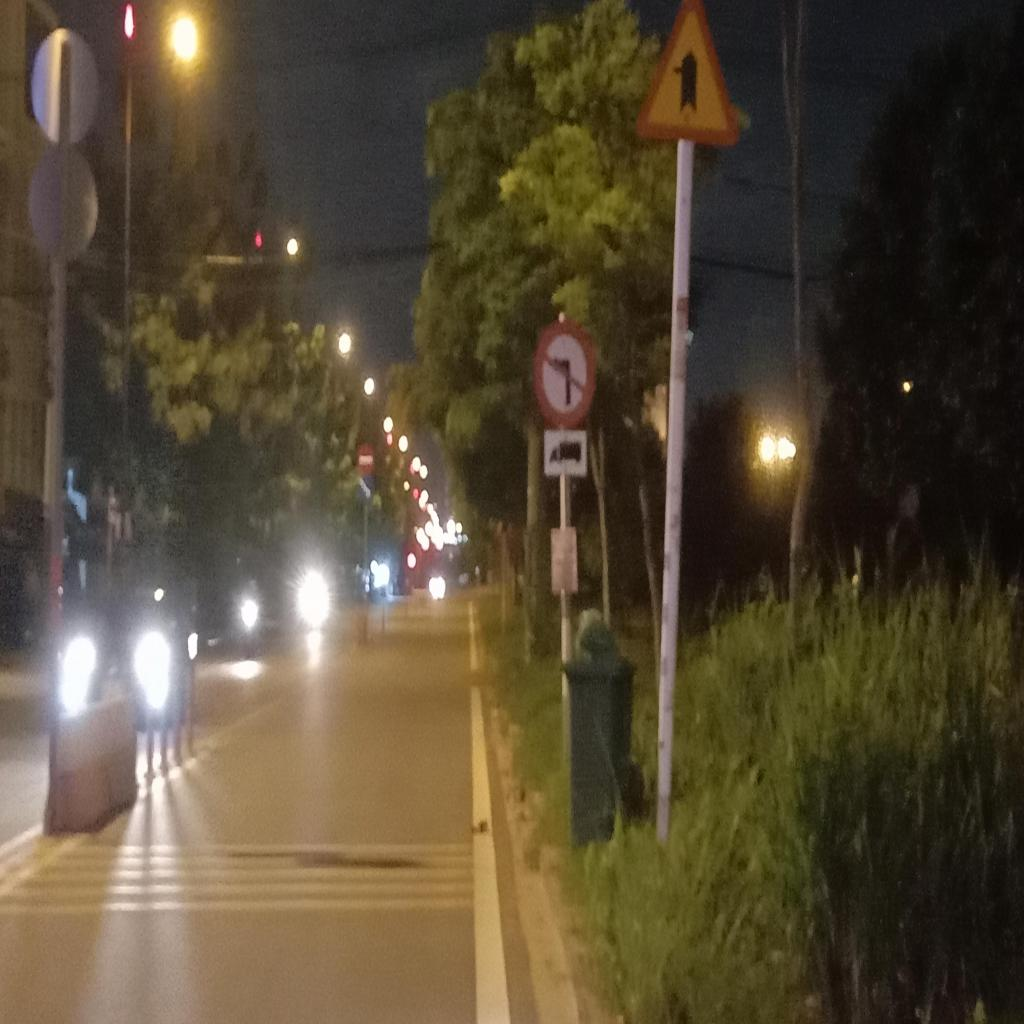cam_re_trai: (532, 316, 598, 430)
cam_xe_di_nguoc_chieu: (357, 444, 374, 473)
giao_nhau_voi_duong_khong_uu_tien: (633, 0, 738, 141)
huong_phai_di_vuot_chuong_ngai_vat_phai: (357, 475, 373, 504)
khac: (544, 430, 588, 476)
